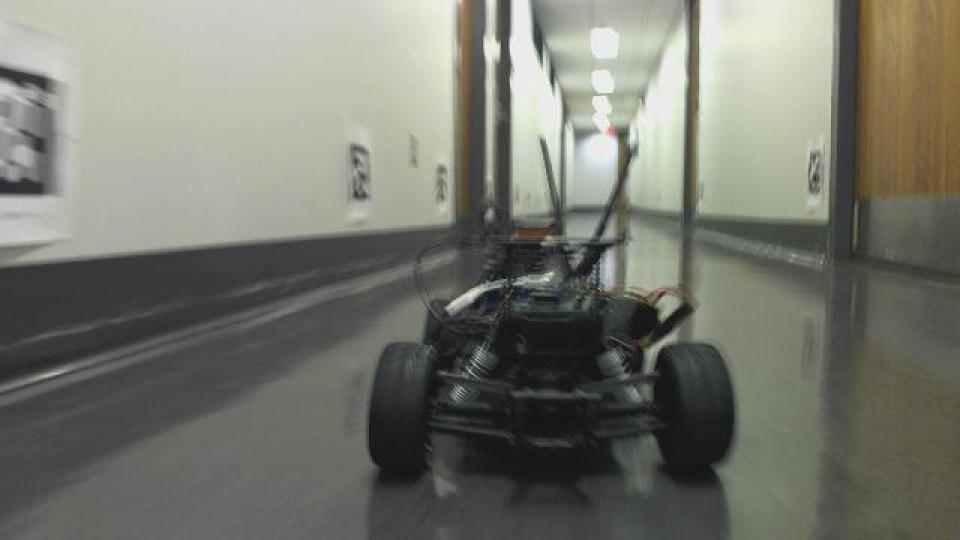car: (362, 129, 740, 492)
